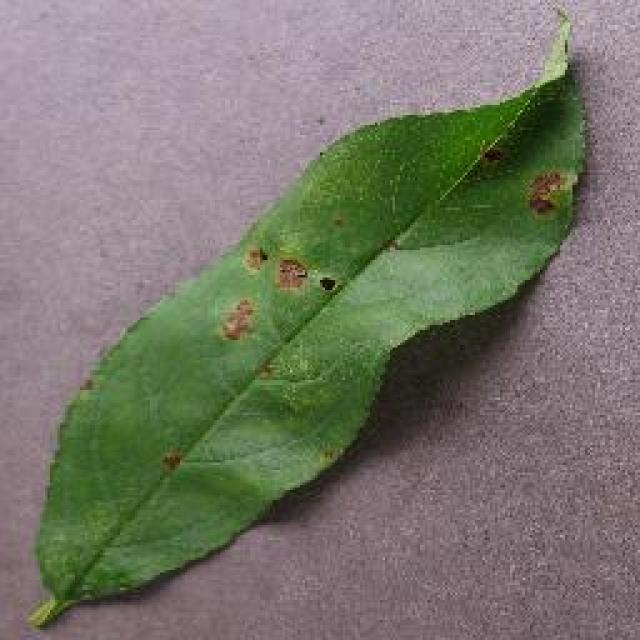Peach_Bacterial_Spot: (220, 162, 388, 413)
